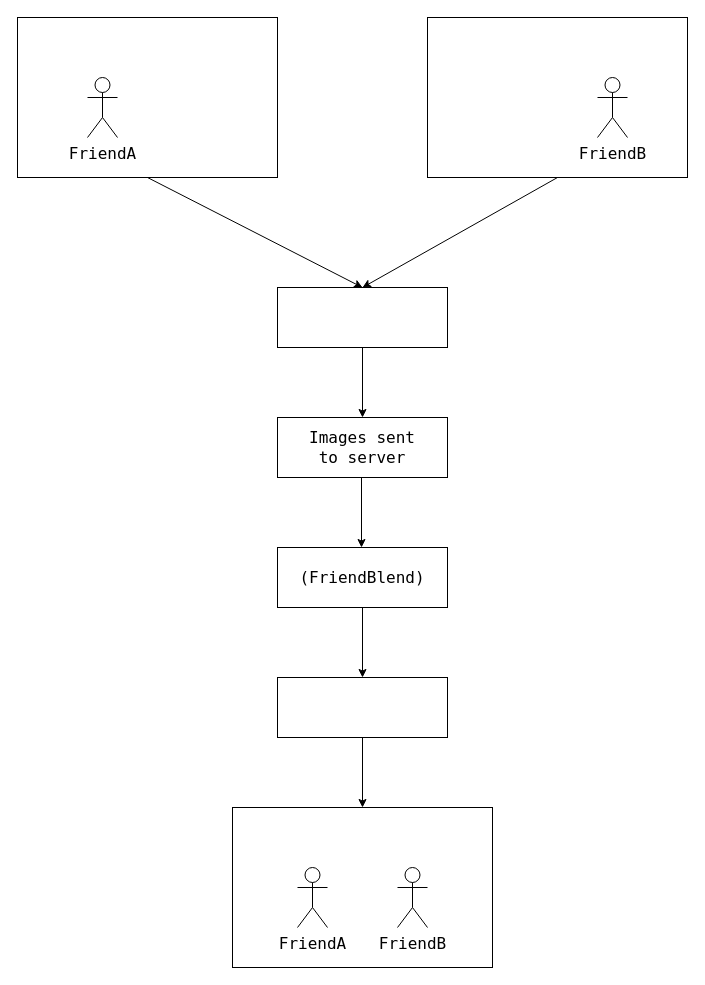
Some shapes in this 705 by 985 pixel diagram are drawn without their labels. The centre of each missing label's shape, as x and y in pixels:
Blended Image sent: the point at 362,707
Images taken: the point at 362,317
